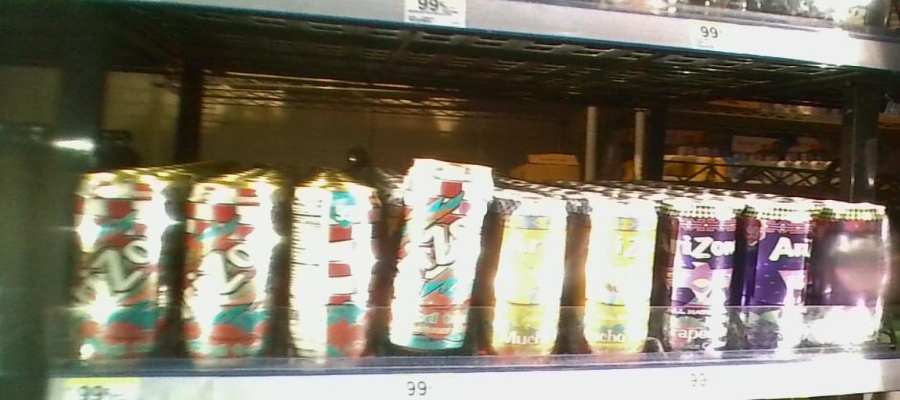bottle: (66, 147, 178, 371), (180, 156, 286, 363), (391, 146, 482, 361), (288, 161, 383, 364), (572, 183, 658, 363), (489, 184, 567, 361), (740, 184, 817, 354), (818, 181, 893, 352), (663, 185, 734, 361)
